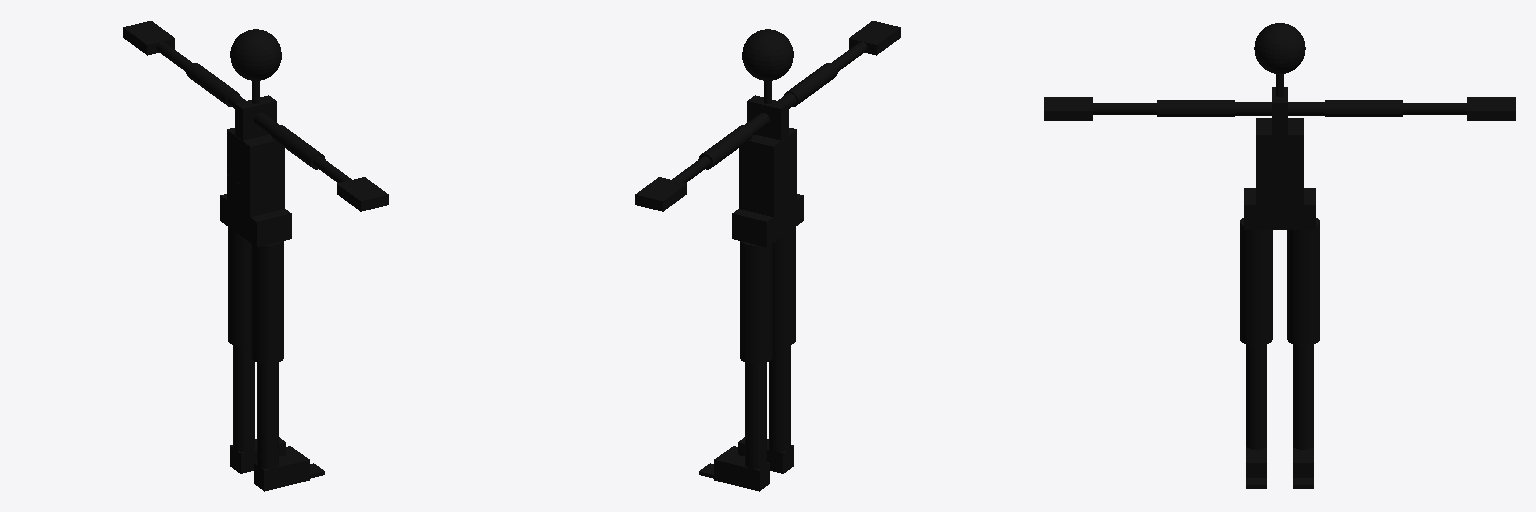
--- Render facts (derived) ---
3 views of the same robot in one strip: view 1: azimuth 30°, elevation 25°; view 2: azimuth 150°, elevation 25°; view 3: azimuth 270°, elevation 25° (orthographic).
Model XSensStyleModel_template with 49 links and 48 joints (48 revolute), rooted at Pelvis, posed all joints at 0.
Visible links, largest first — view 1: RightUpperLeg, LeftUpperLeg, RightLowerLeg, LeftLowerLeg, Head, Pelvis, T12, L5, RightFoot, L3, T8, RightHand (+4 smaller); view 2: LeftUpperLeg, RightUpperLeg, LeftLowerLeg, RightLowerLeg, Head, Pelvis, T12, L5, LeftFoot, L3, T8, LeftHand (+4 smaller); view 3: RightUpperLeg, LeftUpperLeg, Pelvis, RightLowerLeg, LeftLowerLeg, Head, T12, RightUpperArm, LeftUpperArm, L5, RightHand, LeftHand (+6 smaller).
Link boxes in pixels (x1,y1,x2,y2): RightUpperLeg: (251,241,283,363); LeftUpperLeg: (228,227,250,346); RightLowerLeg: (257,363,278,468); LeftLowerLeg: (233,345,254,451); Head: (230,29,281,80); Pelvis: (220,194,291,247); T12: (227,128,284,169); L5: (227,175,284,216); RightFoot: (254,452,309,491); L3: (227,153,284,191); T8: (235,95,276,140); RightHand: (337,177,388,211); LeftUpperLeg: (740,241,772,363); RightUpperLeg: (773,227,795,346); LeftLowerLeg: (745,363,766,468); RightLowerLeg: (769,345,790,451); Head: (742,29,793,80); Pelvis: (732,194,803,247); T12: (739,128,796,169); L5: (739,175,796,216); LeftFoot: (714,452,769,491); L3: (739,153,796,191); T8: (747,95,788,140); LeftHand: (635,177,686,211); RightUpperLeg: (1240,218,1272,345); LeftUpperLeg: (1287,218,1319,345); Pelvis: (1244,188,1315,229); RightLowerLeg: (1246,345,1266,449); LeftLowerLeg: (1293,345,1313,449); Head: (1254,23,1305,73); T12: (1256,118,1303,156); RightUpperArm: (1157,100,1234,116); LeftUpperArm: (1325,100,1402,116); L5: (1256,180,1303,204); RightHand: (1044,97,1092,120); LeftHand: (1467,97,1515,120).
Bounding box of the posed robot: 0.2938 × 1.63 × 1.69 m (x, y, z).
Geometry: primitives only (box / cylinder / sphere), no mesh files.

URDF robot description (XSensStyleModel_template):
<!--URDF MODEL 48 DoFs-->

<robot name="XSensStyleModel_template">

<material name="color">
    <color rgba="0.1 0.1 0.1 1"/>
</material>

<!--To open this model with Gazebo replace the null masses, inertias and dimensions of the 'fake links f1 and f2'-->
    <!--LINKS-->
	<!--Link base (1)-->
	<link name="Pelvis">
        <inertial>
            <mass value="4.976"/>
			<!--COM origin wrt pHipOrigin-->
            <origin xyz="0           0    0.049743" rpy="0 0 0" />
            <inertia ixx="0.029678" iyy="0.011854" izz="0.033653" ixy="0" ixz="0" iyz="0"/>
        </inertial>

        <visual>
			<!--box origin wrt pHipOrigin-->
            <origin xyz="0           0    0.049743" rpy="0 0 0" />
            <geometry>
                <box size="0.13815     0.24914    0.097469"/>
            </geometry>
            <material name="color"/>
        </visual>

        <collision>
			<!--box origin wrt pHipOrigin-->
            <origin xyz="0           0    0.049743" rpy="0 0 0" />
            <geometry>
                <box size="0.13815     0.24914    0.097469"/>
            </geometry>
        </collision>

    </link>
    <!--Chain from (2) to (7)-->
	<link name="L5_f1">
        <inertial>
            <mass value="0"/>
            <origin xyz="0 0 0" rpy="0 0 0" />
            <inertia ixx="0" iyy="0" izz="0" ixy="0" ixz="0" iyz="0"/>
        </inertial>
    </link>
	<link name="L5">
        <inertial>
            <mass value="6.3444"/>
			<!--COM origin wrt jL5S1-->
            <origin xyz="0           0    0.047552" rpy="0 0 0" />
            <inertia ixx="0.018868" iyy="0.014872" izz="0.024177" ixy="0" ixz="0" iyz="0"/>
        </inertial>

        <visual>
			<!--box origin origin wrt jL5S1-->
            <origin xyz="0           0    0.047552" rpy="0 0 0" />
            <geometry>
                <box size="0.13815     0.16323    0.095104"/>
            </geometry>
            <material name="color"/>
        </visual>

        <collision>
			<!--box origin origin wrt jL5S1-->
            <origin xyz="0           0    0.047552" rpy="0 0 0" />
            <geometry>
                <box size="0.13815     0.16323    0.095104"/>
            </geometry>
        </collision>
    </link>
	<link name="L3_f1">
        <inertial>
            <mass value="0"/>
            <origin xyz="0 0 0" rpy="0 0 0" />
            <inertia ixx="0" iyy="0" izz="0" ixy="0" ixz="0" iyz="0"/>
        </inertial>
    </link>
	<link name="L3">
        <inertial>
            <mass value="6.3444"/>
			<!--COM origin wrt jL4L3-->
            <origin xyz="0           0    0.042958" rpy="0 0 0" />
            <inertia ixx="0.017989" iyy="0.013993" izz="0.024177" ixy="0" ixz="0" iyz="0"/>
        </inertial>

        <visual>
			<!--box origin origin wrt jL4L3-->
            <origin xyz="0           0    0.042958" rpy="0 0 0" />
            <geometry>
                <box size="0.13815     0.16323    0.085916"/>
            </geometry>
            <material name="color"/>
        </visual>

        <collision>
			<!--box origin origin wrt jL4L3-->
            <origin xyz="0           0    0.042958" rpy="0 0 0" />
            <geometry>
                <box size="0.13815     0.16323    0.085916"/>
            </geometry>
        </collision>
    </link>
	<link name="T12_f1">
        <inertial>
            <mass value="0"/>
            <origin xyz="0 0 0" rpy="0 0 0" />
            <inertia ixx="0" iyy="0" izz="0" ixy="0" ixz="0" iyz="0"/>
        </inertial>
    </link>
	<link name="T12">
        <inertial>
            <mass value="6.3444"/>
			<!--COM origin wrt jL1T12-->
            <origin xyz="0           0    0.042958" rpy="0 0 0" />
            <inertia ixx="0.017989" iyy="0.013993" izz="0.024177" ixy="0" ixz="0" iyz="0"/>
        </inertial>

        <visual>
			<!--box origin origin wrt jL1T12-->
            <origin xyz="0           0    0.042958" rpy="0 0 0" />
            <geometry>
                <box size="0.13815     0.16323    0.085916"/>
            </geometry>
            <material name="color"/>
        </visual>

        <collision>
			<!--box origin origin wrt jL1T12-->
            <origin xyz="0           0    0.042958" rpy="0 0 0" />
            <geometry>
                <box size="0.13815     0.16323    0.085916"/>
            </geometry>
        </collision>
    </link>
	<link name="T8_f1">
        <inertial>
            <mass value="0"/>
            <origin xyz="0 0 0" rpy="0 0 0" />
            <inertia ixx="0" iyy="0" izz="0" ixy="0" ixz="0" iyz="0"/>
        </inertial>
    </link>
	<link name="T8_f2">
        <inertial>
            <mass value="0"/>
            <origin xyz="0 0 0" rpy="0 0 0" />
            <inertia ixx="0" iyy="0" izz="0" ixy="0" ixz="0" iyz="0"/>
        </inertial>
    </link>
	<link name="T8">
        <inertial>
            <mass value="2.488"/>
			<!--COM origin wrt jT9T8-->
            <origin xyz="0           0    0.059874" rpy="0 0 0" />
            <inertia ixx="0.0035473" iyy="0.0067278" izz="0.0043289" ixy="0" ixz="0" iyz="0"/>
        </inertial>

        <visual>
			<!--box origin wrt jT9T8-->
            <origin xyz="0           0    0.059874" rpy="0 0 0" />
            <geometry>
                <box size="0.13457    0.052626     0.11975"/>
            </geometry>
            <material name="color"/>
        </visual>

        <collision>
			<!--box origin wrt jT9T8-->
            <origin xyz="0           0    0.059874" rpy="0 0 0" />
            <geometry>
                <box size="0.13457    0.052626     0.11975"/>
            </geometry>
        </collision>

    </link>
	<link name="Neck_f1">
        <inertial>
            <mass value="0"/>
            <origin xyz="0 0 0" rpy="0 0 0" />
            <inertia ixx="0" iyy="0" izz="0" ixy="0" ixz="0" iyz="0"/>
        </inertial>
    </link>
	<link name="Neck_f2">
        <inertial>
            <mass value="0"/>
            <origin xyz="0 0 0" rpy="0 0 0" />
            <inertia ixx="0" iyy="0" izz="0" ixy="0" ixz="0" iyz="0"/>
        </inertial>
    </link>
	<link name="Neck">
        <inertial>
            <mass value="0.7464"/>
			<!--COM origin wrt jT1C7-->
            <origin xyz="0           0    0.044626" rpy="0 0 0" />
            <inertia ixx="0.0006461" iyy="0.0006461" izz="0.00030124" ixy="0" ixz="0" iyz="0"/>
        </inertial>

        <visual>
			<!--box origin wrt jT1C7-->
            <origin xyz="0           0    0.044626" rpy="0 0 0" />
            <geometry>
		<cylinder length="0.089252" radius="0.014205"/>
            </geometry>
            <material name="color"/>
        </visual>

        <collision>
			<!--box origin wrt jT1C7-->
            <origin xyz="0           0    0.044626" rpy="0 0 0" />
            <geometry>
                <cylinder length="0.089252" radius="0.014205"/>
            </geometry>
        </collision>
    </link>
	<link name="Head_f1">
        <inertial>
            <mass value="0"/>
            <origin xyz="0 0 0" rpy="0 0 0" />
            <inertia ixx="0" iyy="0" izz="0" ixy="0" ixz="0" iyz="0"/>
        </inertial>
    </link>
	<link name="Head">
        <inertial>
            <mass value="2.2392"/>
			<!--COM origin wrt jC1Head-->
            <origin xyz="0           0    0.089005" rpy="0 0 0" />
            <inertia ixx="0.0070955" iyy="0.0070955" izz="0.0070955" ixy="0" ixz="0" iyz="0"/>
        </inertial>

        <visual>
			<!--boc origin wrt jC1Head-->
            <origin xyz="0           0    0.089005" rpy="0 0 0" />
            <geometry>
                <sphere radius="0.089005"/>
            </geometry>
            <material name="color"/>
        </visual>

        <collision>
			<!--box origin wrt jC1Head-->
            <origin xyz="0           0    0.089005" rpy="0 0 0" />
            <geometry>
                <sphere radius="0.089005"/>
            </geometry>
        </collision>

    </link>
	<!--Chain from (8) to (11)-->
	<link name="RightShoulder">
        <inertial>
            <mass value="1.9282"/>
			<!--COM origin wrt jRightC7Shoulder-->
            <origin xyz="0   -0.065233           0" rpy="0 0 0" />
            <inertia ixx="0.0030029" iyy="0.00053578" izz="0.0030029" ixy="0" ixz="0" iyz="0"/>
        </inertial>

        <visual>
			<!--box origin wrt jRightC7Shoulder. RPY rotated of pi/2.-->
            <origin xyz="0   -0.065233           0" rpy="1.5708 0 0" />
            <geometry>
                <cylinder length="0.13047" radius="0.023574"/>
            </geometry>
            <material name="color"/>
        </visual>

        <collision>
			<!--box origin wrt jRightC7Shoulder. RPY rotated of pi/2.-->
            <origin xyz="0   -0.065233           0" rpy="1.5708 0 0" />
            <geometry>
                <cylinder length="0.13047" radius="0.023574"/>
            </geometry>
        </collision>

    </link>
	<link name="RightUpperArm_f1">
        <inertial>
            <mass value="0"/>
            <origin xyz="0 0 0" rpy="0 0 0" />
            <inertia ixx="0" iyy="0" izz="0" ixy="0" ixz="0" iyz="0"/>
        </inertial>
    </link>
	<link name="RightUpperArm_f2">
        <inertial>
            <mass value="0"/>
            <origin xyz="0 0 0" rpy="0 0 0" />
            <inertia ixx="0" iyy="0" izz="0" ixy="0" ixz="0" iyz="0"/>
        </inertial>
    </link>
    <link name="RightUpperArm">
        <inertial>
            <mass value="1.866"/>
			<!--COM origin wrt jRightShoulder-->
            <origin xyz="0    -0.13497           0" rpy="0 0 0" />
            <inertia ixx="0.011736" iyy="0.00080917" izz="0.011736" ixy="0" ixz="0" iyz="0"/>
        </inertial>

        <visual>
			<!--box origin wrt jRightShoulder. RPY rotated of pi/2.-->
            <origin xyz="0    -0.13497           0" rpy="1.5708 0 0" />
            <geometry>
                <cylinder length="0.26994" radius="0.029449"/>
            </geometry>
            <material name="color"/>
        </visual>

        <collision>
			<!--box origin wrt jRightShoulder. RPY rotated of pi/2.-->
            <origin xyz="0    -0.13497           0" rpy="1.5708 0 0" />
            <geometry>
                <cylinder length="0.26994" radius="0.029449"/>
            </geometry>
        </collision>

    </link>
	<link name="RightForeArm_f1">
        <inertial>
            <mass value="0"/>
            <origin xyz="0 0 0" rpy="0 0 0" />
            <inertia ixx="0" iyy="0" izz="0" ixy="0" ixz="0" iyz="0"/>
        </inertial>
    </link>
	<link name="RightForeArm">
        <inertial>
            <mass value="1.244"/>
			<!--COM origin wrt jRightElbow-->
            <origin xyz="0    -0.11124           0" rpy="0 0 0" />
            <inertia ixx="0.0052508" iyy="0.00023975" izz="0.0052508" ixy="0" ixz="0" iyz="0"/>
        </inertial>

        <visual>
			<!--box origin wrt jRightElbow. RPY rotated of pi/2.-->
            <origin xyz="0    -0.11124           0" rpy="1.5708 0 0" />
            <geometry>
                <cylinder length="0.22247" radius="0.019633"/>
            </geometry>
            <material name="color"/>
        </visual>

        <collision>
			<!--box origin wrt jRightElbow. RPY rotated of pi/2.-->
            <origin xyz="0    -0.11124           0" rpy="1.5708 0 0" />
            <geometry>
                <cylinder length="0.22247" radius="0.019633"/>
            </geometry>
        </collision>

    </link>
	<link name="RightHand_f1">
        <inertial>
            <mass value="0"/>
            <origin xyz="0 0 0" rpy="0 0 0" />
            <inertia ixx="0" iyy="0" izz="0" ixy="0" ixz="0" iyz="0"/>
        </inertial>
    </link>
	<link name="RightHand">
        <inertial>
            <mass value="0.3732"/>
			<!--COM origin wrt jRightWrist-->
            <origin xyz="0   -0.083588           0" rpy="0 0 0" />
            <inertia ixx="0.00091713" iyy="0.00043425" izz="0.0012555" ixy="0" ixz="0" iyz="0"/>
        </inertial>

        <visual>
			<!--box origin wrt jRightWrist-->
            <origin xyz="0   -0.083588           0" rpy="0 0 0" />
            <geometry>
                <box size="0.11145     0.16718    0.039266"/>
            </geometry>
            <material name="color"/>
        </visual>

        <collision>
			<!--box origin wrt jRightWrist-->
            <origin xyz="0   -0.083588           0" rpy="0 0 0" />
            <geometry>
                <box size="0.11145     0.16718    0.039266"/>
            </geometry>
        </collision>

    </link>
	<!--Chain from (12) to (15)-->
	<link name="LeftShoulder">
        <inertial>
            <mass value="1.9282"/>
			<!--COM origin wrt jLeftC7Shoulder-->
            <origin xyz="0    0.065233           0" rpy="0 0 0" />
            <inertia ixx="0.0030029" iyy="0.00053578" izz="0.0030029" ixy="0" ixz="0" iyz="0"/>
        </inertial>

        <visual>
			<!--box origin wrt jLeftC7Shoulder. RPY rotated of pi/2.-->
            <origin xyz="0    0.065233           0" rpy="1.5708 0 0" />
            <geometry>
                <cylinder length="0.13047" radius="0.023574"/>
            </geometry>
            <material name="color"/>
        </visual>

        <collision>
			<!--box origin wrt jLeftC7Shoulder. RPY rotated of pi/2.-->
            <origin xyz="0    0.065233           0" rpy="1.5708 0 0" />
            <geometry>
                <cylinder length="0.13047" radius="0.023574"/>
            </geometry>
        </collision>

    </link>
	<link name="LeftUpperArm_f1">
        <inertial>
            <mass value="0"/>
            <origin xyz="0 0 0" rpy="0 0 0" />
            <inertia ixx="0" iyy="0" izz="0" ixy="0" ixz="0" iyz="0"/>
        </inertial>
    </link>
	<link name="LeftUpperArm_f2">
        <inertial>
            <mass value="0"/>
            <origin xyz="0 0 0" rpy="0 0 0" />
            <inertia ixx="0" iyy="0" izz="0" ixy="0" ixz="0" iyz="0"/>
        </inertial>
    </link>
	<link name="LeftUpperArm">
        <inertial>
            <mass value="1.866"/>
			<!--COM origin wrt jLeftShoulder-->
            <origin xyz="0     0.13497           0" rpy="0 0 0" />
            <inertia ixx="0.011736" iyy="0.00080917" izz="0.011736" ixy="0" ixz="0" iyz="0"/>
        </inertial>

        <visual>
			<!--box origin wrt jLeftShoulder. RPY rotated of pi/2.-->
            <origin xyz="0     0.13497           0" rpy="1.5708 0 0" />
            <geometry>
                <cylinder length="0.26994" radius="0.029449"/>
            </geometry>
            <material name="color"/>
        </visual>

        <collision>
			<!--box origin wrt jLeftShoulder. RPY rotated of pi/2.-->
            <origin xyz="0     0.13497           0" rpy="1.5708 0 0" />
            <geometry>
                <cylinder length="0.26994" radius="0.029449"/>
            </geometry>
        </collision>

    </link>
	<link name="LeftForeArm_f1">
        <inertial>
            <mass value="0"/>
            <origin xyz="0 0 0" rpy="0 0 0" />
            <inertia ixx="0" iyy="0" izz="0" ixy="0" ixz="0" iyz="0"/>
        </inertial>
    </link>
	<link name="LeftForeArm">
        <inertial>
            <mass value="1.244"/>
			<!--COM origin wrt jLeftElbow-->
            <origin xyz="0     0.11124           0" rpy="0 0 0" />
            <inertia ixx="0.0052508" iyy="0.00023975" izz="0.0052508" ixy="0" ixz="0" iyz="0"/>
        </inertial>

        <visual>
			<!--box origin wrt jLeftElbow. RPY rotated of pi/2.-->
            <origin xyz="0     0.11124           0" rpy="1.5708 0 0" />
            <geometry>
                <cylinder length="0.22247" radius="0.019633"/>
            </geometry>
            <material name="color"/>
        </visual>

        <collision>
			<!--box origin wrt jLeftElbow. RPY rotated of pi/2.-->
            <origin xyz="0     0.11124           0" rpy="1.5708 0 0" />
            <geometry>
                <cylinder length="0.22247" radius="0.019633"/>
            </geometry>
        </collision>

    </link>
	<link name="LeftHand_f1">
        <inertial>
            <mass value="0"/>
            <origin xyz="0 0 0" rpy="0 0 0" />
            <inertia ixx="0" iyy="0" izz="0" ixy="0" ixz="0" iyz="0"/>
        </inertial>
    </link>
	<link name="LeftHand">
        <inertial>
            <mass value="0.3732"/>
			<!--COM origin wrt jLeftWrist-->
            <origin xyz="0    0.083588           0" rpy="0 0 0" />
            <inertia ixx="0.00091713" iyy="0.00043425" izz="0.0012555" ixy="0" ixz="0" iyz="0"/>
        </inertial>

        <visual>
			<!--COM origin wrt jLeftWrist-->
            <origin xyz="0    0.083588           0" rpy="0 0 0" />
            <geometry>
                <box size="0.11145     0.16718    0.039266"/>
            </geometry>
            <material name="color"/>
        </visual>

        <collision>
			<!--COM origin wrt jLeftWrist-->
            <origin xyz="0    0.083588           0" rpy="0 0 0" />
            <geometry>
                <box size="0.11145     0.16718    0.039266"/>
            </geometry>
        </collision>

    </link>
	<!--Chain from (16) to (19)-->
	<link name="RightUpperLeg_f1">
        <inertial>
            <mass value="0"/>
            <origin xyz="0 0 0" rpy="0 0 0" />
            <inertia ixx="0" iyy="0" izz="0" ixy="0" ixz="0" iyz="0"/>
        </inertial>
    </link>
	<link name="RightUpperLeg_f2">
        <inertial>
            <mass value="0"/>
            <origin xyz="0 0 0" rpy="0 0 0" />
            <inertia ixx="0" iyy="0" izz="0" ixy="0" ixz="0" iyz="0"/>
        </inertial>
    </link>
    <link name="RightUpperLeg">
        <inertial>
            <mass value="7.775"/>
			<!--COM origin wrt jRightHip-->
            <origin xyz="0           0    -0.22449" rpy="0 0 0" />
            <inertia ixx="0.13681" iyy="0.13681" izz="0.01241" ixy="0" ixz="0" iyz="0"/>
        </inertial>

        <visual>
			<!--box origin wrt jRightHip-->
            <origin xyz="0           0    -0.22449" rpy="0 0 0" />
            <geometry>
                <cylinder length="0.44898" radius="0.0565"/>
            </geometry>
            <material name="color"/>
        </visual>

        <collision>
			<!--box origin wrt jRightHip-->
            <origin xyz="0           0    -0.22449" rpy="0 0 0" />
            <geometry>
                <cylinder length="0.44898" radius="0.0565"/>
            </geometry>
        </collision>

    </link>
	<link name="RightLowerLeg_f1">
        <inertial>
            <mass value="0"/>
            <origin xyz="0 0 0" rpy="0 0 0" />
            <inertia ixx="0" iyy="0" izz="0" ixy="0" ixz="0" iyz="0"/>
        </inertial>
    </link>
    <link name="RightLowerLeg">
        <inertial>
            <mass value="2.2703"/>
			<!--COM origin wrt jRightKnee-->
            <origin xyz="0           0    -0.20304" rpy="0 0 0" />
            <inertia ixx="0.031992" iyy="0.031992" izz="0.0015867" ixy="0" ixz="0" iyz="0"/>
        </inertial>

        <visual>
			<!--box origin wrt jRightKnee-->
            <origin xyz="0           0    -0.20304" rpy="0 0 0" />
            <geometry>
                <cylinder length="0.40608" radius="0.037388"/>
            </geometry>
            <material name="color"/>
        </visual>

        <collision>
			<!--box origin wrt jRightKnee-->
            <origin xyz="0           0    -0.20304" rpy="0 0 0" />
            <geometry>
                <cylinder length="0.40608" radius="0.037388"/>
            </geometry>
        </collision>

    </link>
	<link name="RightFoot_f1">
        <inertial>
            <mass value="0"/>
            <origin xyz="0 0 0" rpy="0 0 0" />
            <inertia ixx="0" iyy="0" izz="0" ixy="0" ixz="0" iyz="0"/>
        </inertial>
    </link>
	<link name="RightFoot_f2">
        <inertial>
            <mass value="0"/>
            <origin xyz="0 0 0" rpy="0 0 0" />
            <inertia ixx="0" iyy="0" izz="0" ixy="0" ixz="0" iyz="0"/>
        </inertial>
    </link>
    <link name="RightFoot">
        <inertial>
            <mass value="0.8086"/>
			<!--COM origin wrt jRightAnkle-->
            <origin xyz="0.054652           0   -0.039254" rpy="0 0 0" />
            <inertia ixx="0.00079209" iyy="0.0025944" izz="0.0025558" ixy="0" ixz="0" iyz="0"/>
        </inertial>

        <visual>
			<!--box origin wrt jRightAnkle-->
	    	<origin xyz="0.054652           0   -0.039254" rpy="0 0 0" />
            <geometry>
                <box size="0.17983    0.074775    0.078509"/>
            </geometry>
            <material name="color"/>
        </visual>

        <collision>
			<!--box origin wrt jRightAnkle-->
		    <origin xyz="0.054652           0   -0.039254" rpy="0 0 0" />
	            <geometry>
	                <box size="0.17983    0.074775    0.078509"/>
	            </geometry>
        </collision>

    </link>
    <link name="RightToe">
        <inertial>
            <mass value="0.0933"/>
			<!--COM origin wrt jRightBallFoot-->
            <origin xyz="0.030086           0           0" rpy="0 0 0" />
            <inertia ixx="4.5038e-05" iyy="2.9717e-05" izz="7.1624e-05" ixy="0" ixz="0" iyz="0"/>
        </inertial>

        <visual>
			<!--box origin wrt jRightBallFoot-->
            <origin xyz="0.030086           0           0" rpy="0 0 0" />
            <geometry>
                <box size="0.060173    0.074775    0.014191"/>
            </geometry>
            <material name="color"/>
        </visual>

        <collision>
			<!--box origin wrt jRightBallFoot-->
            <origin xyz="0.030086           0           0" rpy="0 0 0" />
            <geometry>
                <box size="0.060173    0.074775    0.014191"/>
            </geometry>
        </collision>
    </link>
	<!--Chain from (20) to (23)-->
	<link name="LeftUpperLeg_f1">
        <inertial>
            <mass value="0"/>
            <origin xyz="0 0 0" rpy="0 0 0" />
            <inertia ixx="0" iyy="0" izz="0" ixy="0" ixz="0" iyz="0"/>
        </inertial>
    </link>
	<link name="LeftUpperLeg_f2">
        <inertial>
            <mass value="0"/>
            <origin xyz="0 0 0" rpy="0 0 0" />
            <inertia ixx="0" iyy="0" izz="0" ixy="0" ixz="0" iyz="0"/>
        </inertial>
    </link>
    <link name="LeftUpperLeg">
        <inertial>
            <mass value="7.775"/>
			<!--COM origin wrt jLeftHip-->
            <origin xyz="0           0    -0.22449" rpy="0 0 0" />
            <inertia ixx="0.13681" iyy="0.13681" izz="0.01241" ixy="0" ixz="0" iyz="0"/>
        </inertial>

        <visual>
			<!--box origin wrt jLeftHip-->
            <origin xyz="0           0    -0.22449" rpy="0 0 0" />
            <geometry>
                <cylinder length="0.44898" radius="0.0565"/>
            </geometry>
            <material name="color"/>
        </visual>

        <collision>
			<!--box origin wrt jLeftHip-->
            <origin xyz="0           0    -0.22449" rpy="0 0 0" />
            <geometry>
                <cylinder length="0.44898" radius="0.0565"/>
            </geometry>
        </collision>

    </link>
	<link name="LeftLowerLeg_f1">
        <inertial>
            <mass value="0"/>
            <origin xyz="0 0 0" rpy="0 0 0" />
            <inertia ixx="0" iyy="0" izz="0" ixy="0" ixz="0" iyz="0"/>
        </inertial>
    </link>
	<link name="LeftLowerLeg">
        <inertial>
            <mass value="2.2703"/>
			<!--COM origin wrt jLeftKnee-->
            <origin xyz="0           0    -0.20304" rpy="0 0 0" />
            <inertia ixx="0.031992" iyy="0.031992" izz="0.0015867" ixy="0" ixz="0" iyz="0"/>
        </inertial>

        <visual>
			<!--box origin wrt jLeftKnee-->
            <origin xyz="0           0    -0.20304" rpy="0 0 0" />
            <geometry>
		<cylinder length="0.40608" radius="0.037388"/>
            </geometry>
            <material name="color"/>
        </visual>

        <collision>
			<!--box origin wrt jLeftKnee-->
            <origin xyz="0           0    -0.20304" rpy="0 0 0" />
            <geometry>
		<cylinder length="0.40608" radius="0.037388"/>
            </geometry>
        </collision>

    </link>
	<link name="LeftFoot_f1">
        <inertial>
            <mass value="0"/>
            <origin xyz="0 0 0" rpy="0 0 0" />
            <inertia ixx="0" iyy="0" izz="0" ixy="0" ixz="0" iyz="0"/>
        </inertial>
    </link>
	<link name="LeftFoot_f2">
        <inertial>
            <mass value="0"/>
            <origin xyz="0 0 0" rpy="0 0 0" />
            <inertia ixx="0" iyy="0" izz="0" ixy="0" ixz="0" iyz="0"/>
        </inertial>
    </link>
    <link name="LeftFoot">
        <inertial>
            <mass value="0.8086"/>
			<!--COM origin wrt jLeftAnkle-->
            <origin xyz="0.054652           0   -0.039254" rpy="0 0 0" />
            <inertia ixx="0.00079209" iyy="0.0025944" izz="0.0025558" ixy="0" ixz="0" iyz="0"/>
        </inertial>

        <visual>
			<!--box origin wrt jLeftAnkle-->
	   	 	<origin xyz="0.054652           0   -0.039254" rpy="0 0 0" />
            <geometry>
                <box size="0.17983    0.074775    0.078509"/>
            </geometry>
            <material name="color"/>
        </visual>

        <collision>
			<!--box origin wrt jLeftAnkle-->
		    <origin xyz="0.054652           0   -0.039254" rpy="0 0 0" />
	            <geometry>
	                <box size="0.17983    0.074775    0.078509"/>
	            </geometry>
        </collision>

    </link>
	<link name="LeftToe">
        <inertial>
            <mass value="0.0933"/>
			<!--COM origin wrt jLeftBallFoot-->
            <origin xyz="0.030086           0           0" rpy="0 0 0" />
            <inertia ixx="4.5038e-05" iyy="2.9717e-05" izz="7.1624e-05" ixy="0" ixz="0" iyz="0"/>
        </inertial>

        <visual>
			<!--box origin wrt jLeftBallFoot-->
            <origin xyz="0.030086           0           0" rpy="0 0 0" />
            <geometry>
                <box size="0.060173    0.074775    0.014191"/>
            </geometry>
            <material name="color"/>
        </visual>

        <collision>
			<!--box origin wrt jLeftBallFoot-->
            <origin xyz="0.030086           0           0" rpy="0 0 0" />
            <geometry>
                <box size="0.060173    0.074775    0.014191"/>
            </geometry>
        </collision>
    </link>


	<!--JOINTS-->
	<!--Chain from (2) to (7)-->
	<joint name="jL5S1_rotx" type="revolute">
        <origin xyz="-0.000206           0    0.098478" rpy="0 0 0"/>
        <parent link="Pelvis"/>
        <child link="L5_f1"/>
        <dynamics damping="0.1" friction="0.0"/>
        <limit effort="30" velocity="1.0" lower="-0.610865" upper="0.610865" />
        <axis xyz="1 0 0" />
    </joint>
	<joint name="jL5S1_roty" type="revolute">
        <origin xyz="0 0 0" rpy="0 0 0"/>
        <parent link="L5_f1"/>
        <child link="L5"/>
        <dynamics damping="0.1" friction="0.0"/>
        <limit effort="30" velocity="1.0" lower="-0.523599" upper="1.309" />
        <axis xyz="0 1 0" />
    </joint>
	<joint name="jL4L3_rotx" type="revolute">
        <origin xyz="0.000374           0    0.095104" rpy="0 0 0"/>
        <parent link="L5"/>
        <child link="L3_f1"/>
        <dynamics damping="0.1" friction="0.0"/>
        <limit effort="30" velocity="1.0" lower="-0.610865" upper="0.610865" />
        <axis xyz="1 0 0" />
    </joint>
	<joint name="jL4L3_roty" type="revolute">
        <origin xyz="0 0 0" rpy="0 0 0"/>
        <parent link="L3_f1"/>
        <child link="L3"/>
        <dynamics damping="0.1" friction="0.0"/>
        <limit effort="30" velocity="1.0" lower="-0.523599" upper="1.309" />
        <axis xyz="0 1 0" />
    </joint>
	<joint name="jL1T12_rotx" type="revolute">
        <origin xyz="0           0    0.085916" rpy="0 0 0"/>
        <parent link="L3"/>
        <child link="T12_f1"/>
        <dynamics damping="0.1" friction="0.0"/>
        <limit effort="30" velocity="1.0" lower="-0.610865" upper="0.610865" />
        <axis xyz="1 0 0" />
    </joint>
	<joint name="jL1T12_roty" type="revolute">
        <origin xyz="0 0 0" rpy="0 0 0"/>
        <parent link="T12_f1"/>
        <child link="T12"/>
        <dynamics damping="0.1" friction="0.0"/>
        <limit effort="30" velocity="1.0" lower="-0.523599" upper="1.309" />
        <axis xyz="0 1 0" />
    </joint>
	<joint name="jT9T8_rotx" type="revolute">
        <origin xyz="0           0    0.085916" rpy="0 0 0"/>
        <parent link="T12"/>
        <child link="T8_f1"/>
        <dynamics damping="0.1" friction="0.0"/>
        <limit effort="30" velocity="1.0" lower="-0.349066" upper="0.349066" />
        <axis xyz="1 0 0" />
    </joint>
	<joint name="jT9T8_roty" type="revolute">
        <origin xyz="0 0 0" rpy="0 0 0"/>
        <parent link="T8_f1"/>
        <child link="T8_f2"/>
        <dynamics damping="0.1" friction="0.0"/>
        <limit effort="30" velocity="1.0" lower="-0.261799" upper="0.698132" />
        <axis xyz="0 1 0" />
    </joint>
    <joint name="jT9T8_rotz" type="revolute">
        <origin xyz="0 0 0" rpy="0 0 0"/>
        <parent link="T8_f2"/>
        <child link="T8"/>
        <dynamics damping="0.1" friction="0.0"/>
        <limit effort="30" velocity="1.0" lower="-0.610865" upper="0.610865" />
        <axis xyz="0 0 1" />
    </joint>
	<joint name="jT1C7_rotx" type="revolute">
        <origin xyz="0           0     0.11975" rpy="0 0 0"/>
        <parent link="T8"/>
        <child link="Neck_f1"/>
        <dynamics damping="0.1" friction="0.0"/>
        <limit effort="30" velocity="1.0" lower="-0.610865" upper="0.610865" />
        <axis xyz="1 0 0" />
    </joint>
	<joint name="jT1C7_roty" type="revolute">
        <origin xyz="0 0 0" rpy="0 0 0"/>
        <parent link="Neck_f1"/>
        <child link="Neck_f2"/>
        <dynamics damping="0.1" friction="0.0"/>
        <limit effort="30" velocity="1.0" lower="-0.959931" upper="1.5708" />
        <axis xyz="0 1 0" />
    </joint>
    <joint name="jT1C7_rotz" type="revolute">
        <origin xyz="0 0 0" rpy="0 0 0"/>
        <parent link="Neck_f2"/>
        <child link="Neck"/>
        <dynamics damping="0.1" friction="0.0"/>
        <limit effort="30" velocity="1.0" lower="-1.22173" upper="1.22173" />
        <axis xyz="0 0 1" />
    </joint>
	<joint name="jC1Head_rotx" type="revolute">
        <origin xyz="0.000152           0    0.089252" rpy="0 0 0"/>
        <parent link="Neck"/>
        <child link="Head_f1"/>
        <dynamics damping="0.1" friction="0.0"/>
        <limit effort="30" velocity="1.0" lower="-0.610865" upper="0.610865" />
        <axis xyz="1 0 0" />
    </joint>
	<joint name="jC1Head_roty" type="revolute">
        <origin xyz="0 0 0" rpy="0 0 0"/>
        <parent link="Head_f1"/>
        <child link="Head"/>
        <dynamics damping="0.1" friction="0.0"/>
        <limit effort="30" velocity="1.0" lower="-0.436332" upper="0.174533" />
        <axis xyz="0 1 0" />
    </joint>
	<!--Chain from (8) to (11)-->
	<joint name="jRightC7Shoulder_rotx" type="revolute">
        <origin xyz="0   -0.026313    0.067052" rpy="0 0 0"/>
        <parent link="T8"/>
        <child link="RightShoulder"/>
        <dynamics damping="0.1" friction="0.0"/>
        <limit effort="30" velocity="1.0" lower="-0.785398" upper="0.0872665" />
        <axis xyz="1 0 0" />
    </joint>
	<joint name="jRightShoulder_rotx" type="revolute">
        <origin xyz="0    -0.13047           0" rpy="0 0 0"/>
        <parent link="RightShoulder"/>
        <child link="RightUpperArm_f1"/>
        <dynamics damping="0.1" friction="0.0"/>
        <limit effort="30" velocity="1.0" lower="-2.35619" upper="1.5708" />
        <axis xyz="1 0 0" />
    </joint>
	<joint name="jRightShoulder_roty" type="revolute">
        <origin xyz="0 0 0" rpy="0 0 0"/>
        <parent link="RightUpperArm_f1"/>
        <child link="RightUpperArm_f2"/>
        <dynamics damping="0.1" friction="0.0"/>
        <limit effort="30" velocity="1.0" lower="-1.5708" upper="1.5708" />
        <axis xyz="0 1 0" />
    </joint>
    <joint name="jRightShoulder_rotz" type="revolute">
        <origin xyz="0 0 0" rpy="0 0 0"/>
        <parent link="RightUpperArm_f2"/>
        <child link="RightUpperArm"/>
        <dynamics damping="0.1" friction="0.0"/>
        <limit effort="30" velocity="1.0" lower="-0.785398" upper="3.14159" />
        <axis xyz="0 0 1" />
    </joint>
	<joint name="jRightElbow_roty" type="revolute">
        <origin xyz="0    -0.26994           0" rpy="0 0 0"/>
        <parent link="RightUpperArm"/>
        <child link="RightForeArm_f1"/>
        <dynamics damping="0.1" friction="0.0"/>
        <limit effort="30" velocity="1.0" lower="-1.5708" upper="1.48353" />
        <axis xyz="0 1 0" />
    </joint>
	<joint name="jRightElbow_rotz" type="revolute">
        <origin xyz="0 0 0" rpy="0 0 0"/>
        <parent link="RightForeArm_f1"/>
        <child link="RightForeArm"/>
        <dynamics damping="0.1" friction="0.0"/>
        <limit effort="30" velocity="1.0" lower="0" upper="2.53073" />
        <axis xyz="0 0 1" />
    </joint>
	<joint name="jRightWrist_rotx" type="revolute">
        <origin xyz="7.7e-05    -0.22247           0" rpy="0 0 0"/>
        <parent link="RightForeArm"/>
        <child link="RightHand_f1"/>
        <dynamics damping="0.1" friction="0.0"/>
        <limit effort="30" velocity="1.0" lower="-0.872665" upper="1.0472" />
        <axis xyz="1 0 0" />
    </joint>
	<joint name="jRightWrist_rotz" type="revolute">
        <origin xyz="0 0 0" rpy="0 0 0"/>
        <parent link="RightHand_f1"/>
        <child link="RightHand"/>
        <dynamics damping="0.1" friction="0.0"/>
        <limit effort="30" velocity="1.0" lower="-0.523599" upper="0.349066" />
        <axis xyz="0 0 1" />
    </joint>
	<!--Chain from (12) to (15)-->
	<joint name="jLeftC7Shoulder_rotx" type="revolute">
        <origin xyz="0    0.026313    0.067052" rpy="0 0 0"/>
        <parent link="T8"/>
        <child link="LeftShoulder"/>
        <dynamics damping="0.1" friction="0.0"/>
        <limit effort="30" velocity="1.0" lower="-0.0872665" upper="0.785398" />
        <axis xyz="1 0 0" />
    </joint>
	<joint name="jLeftShoulder_rotx" type="revolute">
        <origin xyz="0     0.13047           0" rpy="0 0 0"/>
        <parent link="LeftShoulder"/>
        <child link="LeftUpperArm_f1"/>
        <dynamics damping="0.1" friction="0.0"/>
        <limit effort="30" velocity="1.0" lower="-1.5708" upper="2.35619" />
        <axis xyz="1 0 0" />
    </joint>
	<joint name="jLeftShoulder_roty" type="revolute">
        <origin xyz="0 0 0" rpy="0 0 0"/>
        <parent link="LeftUpperArm_f1"/>
        <child link="LeftUpperArm_f2"/>
        <dynamics damping="0.1" friction="0.0"/>
        <limit effort="30" velocity="1.0" lower="-1.5708" upper="1.5708" />
        <axis xyz="0 1 0" />
    </joint>
    <joint name="jLeftShoulder_rotz" type="revolute">
        <origin xyz="0 0 0" rpy="0 0 0"/>
        <parent link="LeftUpperArm_f2"/>
        <child link="LeftUpperArm"/>
        <dynamics damping="0.1" friction="0.0"/>
        <limit effort="30" velocity="1.0" lower="-3.14159" upper="0.785398" />
        <axis xyz="0 0 1" />
    </joint>
    <joint name="jLeftElbow_roty" type="revolute">
        <origin xyz="0     0.26994           0" rpy="0 0 0"/>
        <parent link="LeftUpperArm"/>
        <child link="LeftForeArm_f1"/>
        <dynamics damping="0.1" friction="0.0"/>
        <limit effort="30" velocity="1.0" lower="-1.5708" upper="1.48353" />
        <axis xyz="0 1 0" />
    </joint>
    <joint name="jLeftElbow_rotz" type="revolute">
        <origin xyz="0 0 0" rpy="0 0 0"/>
        <parent link="LeftForeArm_f1"/>
        <child link="LeftForeArm"/>
        <dynamics damping="0.1" friction="0.0"/>
        <limit effort="30" velocity="1.0" lower="-2.53073" upper="0" />
        <axis xyz="0 0 1" />
    </joint>
	<joint name="jLeftWrist_rotx" type="revolute">
        <origin xyz="7.7e-05     0.22247           0" rpy="0 0 0"/>
        <parent link="LeftForeArm"/>
        <child link="LeftHand_f1"/>
        <dynamics damping="0.1" friction="0.0"/>
        <limit effort="30" velocity="1.0" lower="-1.0472" upper="0.872665" />
        <axis xyz="1 0 0" />
    </joint>
	<joint name="jLeftWrist_rotz" type="revolute">
        <origin xyz="0 0 0" rpy="0 0 0"/>
        <parent link="LeftHand_f1"/>
        <child link="LeftHand"/>
        <dynamics damping="0.1" friction="0.0"/>
        <limit effort="30" velocity="1.0" lower="-0.349066" upper="0.523599" />
        <axis xyz="0 0 1" />
    </joint>
	<!--Chain from (16) to (19)-->
	<joint name="jRightHip_rotx" type="revolute">
        <origin xyz="0.000103   -0.081614    0.001009" rpy="0 0 0"/>
        <parent link="Pelvis"/>
        <child link="RightUpperLeg_f1"/>
        <dynamics damping="0.1" friction="0.0"/>
        <limit effort="30" velocity="1.0" lower="-0.785398" upper="0.523599" />
        <axis xyz="1 0 0" />
    </joint>
	<joint name="jRightHip_roty" type="revolute">
        <origin xyz="0 0 0" rpy="0 0 0"/>
        <parent link="RightUpperLeg_f1"/>
        <child link="RightUpperLeg_f2"/>
        <dynamics damping="0.1" friction="0.0"/>
        <limit effort="30" velocity="1.0" lower="-2.0944" upper="0.261799" />
        <axis xyz="0 1 0" />
    </joint>
    <joint name="jRightHip_rotz" type="revolute">
        <origin xyz="0 0 0" rpy="0 0 0"/>
        <parent link="RightUpperLeg_f2"/>
        <child link="RightUpperLeg"/>
        <dynamics damping="0.1" friction="0.0"/>
        <limit effort="30" velocity="1.0" lower="-0.785398" upper="0.785398" />
        <axis xyz="0 0 1" />
    </joint>
	<joint name="jRightKnee_roty" type="revolute">
        <origin xyz="3.6e-05           0    -0.44898" rpy="0 0 0"/>
        <parent link="RightUpperLeg"/>
        <child link="RightLowerLeg_f1"/>
        <dynamics damping="0.1" friction="0.0"/>
        <limit effort="30" velocity="1.0" lower="0" upper="2.35619" />
        <axis xyz="0 1 0" />
    </joint>
	<joint name="jRightKnee_rotz" type="revolute">
        <origin xyz="0 0 0" rpy="0 0 0"/>
        <parent link="RightLowerLeg_f1"/>
        <child link="RightLowerLeg"/>
        <dynamics damping="0.1" friction="0.0"/>
        <limit effort="30" velocity="1.0" lower="-0.698132" upper="0.523599" />
        <axis xyz="0 0 1" />
    </joint>
	<joint name="jRightAnkle_rotx" type="revolute">
        <origin xyz="0.000205           0    -0.40608" rpy="0 0 0"/>
        <parent link="RightLowerLeg"/>
        <child link="RightFoot_f1"/>
        <dynamics damping="0.1" friction="0.0"/>
        <limit effort="30" velocity="1.0" lower="-0.610865" upper="0.785398" />
        <axis xyz="1 0 0" />
    </joint>
	<joint name="jRightAnkle_roty" type="revolute">
        <origin xyz="0 0 0" rpy="0 0 0"/>
        <parent link="RightFoot_f1"/>
        <child link="RightFoot_f2"/>
        <dynamics damping="0.1" friction="0.0"/>
        <limit effort="30" velocity="1.0" lower="-0.523599" upper="0.872665" />
        <axis xyz="0 1 0" />
    </joint>
    <joint name="jRightAnkle_rotz" type="revolute">
        <origin xyz="0 0 0" rpy="0 0 0"/>
        <parent link="RightFoot_f2"/>
        <child link="RightFoot"/>
        <dynamics damping="0.1" friction="0.0"/>
        <limit effort="30" velocity="1.0" lower="-0.436332" upper="0.872665" />
        <axis xyz="0 0 1" />
    </joint>
	<joint name="jRightBallFoot_roty" type="revolute">
        <origin xyz="0.14456           0   -0.064752" rpy="0 0 0"/>
        <parent link="RightFoot"/>
        <child link="RightToe"/>
        <dynamics damping="0.1" friction="0.0"/>
        <limit effort="30" velocity="1.0" lower="-0.174533" upper="1.5708" />
        <axis xyz="0 1 0" />
    </joint>
	<!--Chain from (20) to (23)-->
	<joint name="jLeftHip_rotx" type="revolute">
        <origin xyz="0.000103    0.081614    0.001009" rpy="0 0 0"/>
        <parent link="Pelvis"/>
        <child link="LeftUpperLeg_f1"/>
        <dynamics damping="0.1" friction="0.0"/>
        <limit effort="30" velocity="1.0" lower="-0.523599" upper="0.785398" />
        <axis xyz="1 0 0" />
    </joint>
	<joint name="jLeftHip_roty" type="revolute">
        <origin xyz="0 0 0" rpy="0 0 0"/>
        <parent link="LeftUpperLeg_f1"/>
        <child link="LeftUpperLeg_f2"/>
        <dynamics damping="0.1" friction="0.0"/>
        <limit effort="30" velocity="1.0" lower="-2.0944" upper="0.261799" />
        <axis xyz="0 1 0" />
    </joint>
    <joint name="jLeftHip_rotz" type="revolute">
        <origin xyz="0 0 0" rpy="0 0 0"/>
        <parent link="LeftUpperLeg_f2"/>
        <child link="LeftUpperLeg"/>
        <dynamics damping="0.1" friction="0.0"/>
        <limit effort="30" velocity="1.0" lower="-0.785398" upper="0.785398" />
        <axis xyz="0 0 1" />
    </joint>
	<joint name="jLeftKnee_roty" type="revolute">
        <origin xyz="3.6e-05           0    -0.44898" rpy="0 0 0"/>
        <parent link="LeftUpperLeg"/>
        <child link="LeftLowerLeg_f1"/>
        <dynamics damping="0.1" friction="0.0"/>
        <limit effort="30" velocity="1.0" lower="0" upper="2.35619" />
        <axis xyz="0 1 0" />
    </joint>
    <joint name="jLeftKnee_rotz" type="revolute">
        <origin xyz="0 0 0" rpy="0 0 0"/>
        <parent link="LeftLowerLeg_f1"/>
        <child link="LeftLowerLeg"/>
        <dynamics damping="0.1" friction="0.0"/>
        <limit effort="30" velocity="1.0" lower="-0.523599" upper="0.698132" />
        <axis xyz="0 0 1" />
    </joint>
	<joint name="jLeftAnkle_rotx" type="revolute">
        <origin xyz="0.000205           0    -0.40608" rpy="0 0 0"/>
        <parent link="LeftLowerLeg"/>
        <child link="LeftFoot_f1"/>
        <dynamics damping="0.1" friction="0.0"/>
        <limit effort="30" velocity="1.0" lower="-0.785398" upper="0.610865" />
        <axis xyz="1 0 0" />
    </joint>
	<joint name="jLeftAnkle_roty" type="revolute">
        <origin xyz="0 0 0" rpy="0 0 0"/>
        <parent link="LeftFoot_f1"/>
        <child link="LeftFoot_f2"/>
        <dynamics damping="0.1" friction="0.0"/>
        <limit effort="30" velocity="1.0" lower="-0.523599" upper="0.872665" />
        <axis xyz="0 1 0" />
    </joint>
    <joint name="jLeftAnkle_rotz" type="revolute">
        <origin xyz="0 0 0" rpy="0 0 0"/>
        <parent link="LeftFoot_f2"/>
        <child link="LeftFoot"/>
        <dynamics damping="0.1" friction="0.0"/>
        <limit effort="30" velocity="1.0" lower="-0.872665" upper="0.436332" />
        <axis xyz="0 0 1" />
    </joint>
	<joint name="jLeftBallFoot_roty" type="revolute">
        <origin xyz="0.14456           0   -0.064752" rpy="0 0 0"/>
        <parent link="LeftFoot"/>
        <child link="LeftToe"/>
        <dynamics damping="0.1" friction="0.0"/>
        <limit effort="30" velocity="1.0" lower="-0.174533" upper="1.5708" />
        <axis xyz="0 1 0" />
    </joint>

	<!-- Sensor  1-->
<sensor name="Pelvis_gyro" type="gyroscope">
<parent link="Pelvis"/>
<origin xyz="-0.056756 -5.6944e-06    0.097055" rpy="-0.3247     0.95826      2.4984"/>
</sensor>
<sensor name="Pelvis_accelerometer" type="accelerometer">
<parent link="Pelvis"/>
<origin xyz="-0.056756 -5.6944e-06    0.097055" rpy="-0.3247     0.95826      2.4984"/>
</sensor>
<!-- Sensor  2-->
<sensor name="T8_gyro" type="gyroscope">
<parent link="T8"/>
<origin xyz="0.1256  2.9265e-07    0.069079" rpy="0.054662      1.1921    0.026605"/>
</sensor>
<sensor name="T8_accelerometer" type="accelerometer">
<parent link="T8"/>
<origin xyz="0.1256  2.9265e-07    0.069079" rpy="0.054662      1.1921    0.026605"/>
</sensor>
<!-- Sensor  3-->
<sensor name="Head_gyro" type="gyroscope">
<parent link="Head"/>
<origin xyz="-0.069574  4.0118e-07    0.076475" rpy="2.3602    0.029132     -1.6926"/>
</sensor>
<sensor name="Head_accelerometer" type="accelerometer">
<parent link="Head"/>
<origin xyz="-0.069574  4.0118e-07    0.076475" rpy="2.3602    0.029132     -1.6926"/>
</sensor>
<!-- Sensor  4-->
<sensor name="RightShoulder_gyro" type="gyroscope">
<parent link="RightShoulder"/>
<origin xyz="-0.018859   -0.047148   -0.056578" rpy="1.3372    -0.28335     -1.4594"/>
</sensor>
<sensor name="RightShoulder_accelerometer" type="accelerometer">
<parent link="RightShoulder"/>
<origin xyz="-0.018859   -0.047148   -0.056578" rpy="1.3372    -0.28335     -1.4594"/>
</sensor>
<!-- Sensor  5-->
<sensor name="RightUpperArm_gyro" type="gyroscope">
<parent link="RightUpperArm"/>
<origin xyz="-0.018123   -0.090613    0.018123" rpy="-0.15226    0.030142     -1.5884"/>
</sensor>
<sensor name="RightUpperArm_accelerometer" type="accelerometer">
<parent link="RightUpperArm"/>
<origin xyz="-0.018123   -0.090613    0.018123" rpy="-0.15226    0.030142     -1.5884"/>
</sensor>
<!-- Sensor  6-->
<sensor name="RightForeArm_gyro" type="gyroscope">
<parent link="RightForeArm"/>
<origin xyz="0.0016793    -0.18323      0.0183" rpy="-1.1132    0.015024     -1.2543"/>
</sensor>
<sensor name="RightForeArm_accelerometer" type="accelerometer">
<parent link="RightForeArm"/>
<origin xyz="0.0016793    -0.18323      0.0183" rpy="-1.1132    0.015024     -1.2543"/>
</sensor>
<!-- Sensor  7-->
<sensor name="RightHand_gyro" type="gyroscope">
<parent link="RightHand"/>
<origin xyz="-3.4565e-08   -0.050814    0.018478" rpy="-0.69083   -0.053849     -1.4329"/>
</sensor>
<sensor name="RightHand_accelerometer" type="accelerometer">
<parent link="RightHand"/>
<origin xyz="-3.4565e-08   -0.050814    0.018478" rpy="-0.69083   -0.053849     -1.4329"/>
</sensor>
<!-- Sensor  8-->
<sensor name="LeftShoulder_gyro" type="gyroscope">
<parent link="LeftShoulder"/>
<origin xyz="-0.018859    0.047148   -0.056578" rpy="-1.1487    -0.34419      1.3655"/>
</sensor>
<sensor name="LeftShoulder_accelerometer" type="accelerometer">
<parent link="LeftShoulder"/>
<origin xyz="-0.018859    0.047148   -0.056578" rpy="-1.1487    -0.34419      1.3655"/>
</sensor>
<!-- Sensor  9-->
<sensor name="LeftUpperArm_gyro" type="gyroscope">
<parent link="LeftUpperArm"/>
<origin xyz="-0.018123    0.090613    0.018123" rpy="0.094373   -0.042991      1.6861"/>
</sensor>
<sensor name="LeftUpperArm_accelerometer" type="accelerometer">
<parent link="LeftUpperArm"/>
<origin xyz="-0.018123    0.090613    0.018123" rpy="0.094373   -0.042991      1.6861"/>
</sensor>
<!-- Sensor  10-->
<sensor name="LeftForeArm_gyro" type="gyroscope">
<parent link="LeftForeArm"/>
<origin xyz="0.0016791     0.18323    0.018301" rpy="0.90429     0.18107      1.1351"/>
</sensor>
<sensor name="LeftForeArm_accelerometer" type="accelerometer">
<parent link="LeftForeArm"/>
<origin xyz="0.0016791     0.18323    0.018301" rpy="0.90429     0.18107      1.1351"/>
</sensor>
<!-- Sensor  11-->
<sensor name="LeftHand_gyro" type="gyroscope">
<parent link="LeftHand"/>
<origin xyz="1.1198e-08    0.050814    0.018478" rpy="1.2175   -0.077786      1.3837"/>
</sensor>
<sensor name="LeftHand_accelerometer" type="accelerometer">
<parent link="LeftHand"/>
<origin xyz="1.1198e-08    0.050814    0.018478" rpy="1.2175   -0.077786      1.3837"/>
</sensor>
<!-- Sensor  12-->
<sensor name="RightUpperLeg_gyro" type="gyroscope">
<parent link="RightUpperLeg"/>
<origin xyz="0.012972    -0.04567    -0.26981" rpy="2.8247      1.4102      1.8304"/>
</sensor>
<sensor name="RightUpperLeg_accelerometer" type="accelerometer">
<parent link="RightUpperLeg"/>
<origin xyz="0.012972    -0.04567    -0.26981" rpy="2.8247      1.4102      1.8304"/>
</sensor>
<!-- Sensor  13-->
<sensor name="RightLowerLeg_gyro" type="gyroscope">
<parent link="RightLowerLeg"/>
<origin xyz="0.030805   0.0070514    -0.13253" rpy="-2.9287      1.4733     -1.9582"/>
</sensor>
<sensor name="RightLowerLeg_accelerometer" type="accelerometer">
<parent link="RightLowerLeg"/>
<origin xyz="0.030805   0.0070514    -0.13253" rpy="-2.9287      1.4733     -1.9582"/>
</sensor>
<!-- Sensor  14-->
<sensor name="RightFoot_gyro" type="gyroscope">
<parent link="RightFoot"/>
<origin xyz="0.083701   0.0013928   -0.011817" rpy="0.30301     0.49685    -0.19697"/>
</sensor>
<sensor name="RightFoot_accelerometer" type="accelerometer">
<parent link="RightFoot"/>
<origin xyz="0.083701   0.0013928   -0.011817" rpy="0.30301     0.49685    -0.19697"/>
</sensor>
<!-- Sensor  15-->
<sensor name="LeftUpperLeg_gyro" type="gyroscope">
<parent link="LeftUpperLeg"/>
<origin xyz="0.012973     0.04567    -0.26981" rpy="-2.3214      1.4159     -1.1979"/>
</sensor>
<sensor name="LeftUpperLeg_accelerometer" type="accelerometer">
<parent link="LeftUpperLeg"/>
<origin xyz="0.012973     0.04567    -0.26981" rpy="-2.3214      1.4159     -1.1979"/>
</sensor>
<!-- Sensor  16-->
<sensor name="LeftLowerLeg_gyro" type="gyroscope">
<parent link="LeftLowerLeg"/>
<origin xyz="0.030805  -0.0070515    -0.13253" rpy="-2.6156      1.3817      2.7867"/>
</sensor>
<sensor name="LeftLowerLeg_accelerometer" type="accelerometer">
<parent link="LeftLowerLeg"/>
<origin xyz="0.030805  -0.0070515    -0.13253" rpy="-2.6156      1.3817      2.7867"/>
</sensor>
<!-- Sensor  17-->
<sensor name="LeftFoot_gyro" type="gyroscope">
<parent link="LeftFoot"/>
<origin xyz="0.083701  -0.0013929   -0.011817" rpy="-0.10862      0.4501     0.37976"/>
</sensor>
<sensor name="LeftFoot_accelerometer" type="accelerometer">
<parent link="LeftFoot"/>
<origin xyz="0.083701  -0.0013929   -0.011817" rpy="-0.10862      0.4501     0.37976"/>
</sensor>


</robot>
